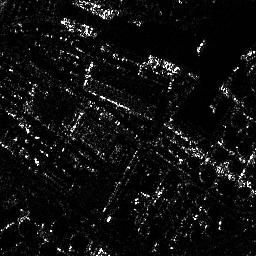ship: (71, 1, 119, 19), (60, 17, 98, 37), (146, 56, 181, 75)
